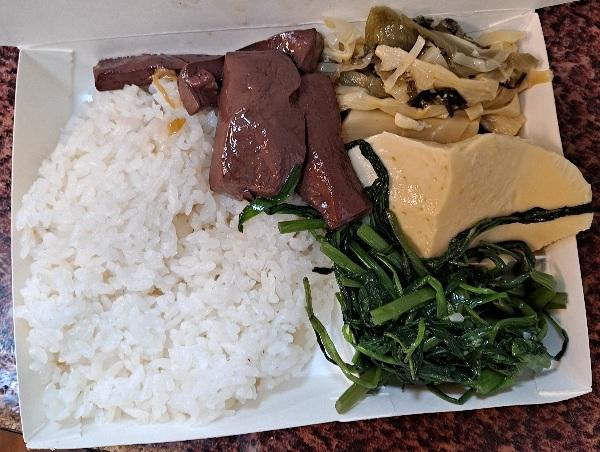big grilled chicken leg: (3, 28, 596, 446)
big herbal chicken leg: (30, 75, 321, 436)
braised fish fillet: (161, 38, 362, 218), (343, 242, 556, 404), (318, 20, 543, 137), (355, 132, 575, 249)
